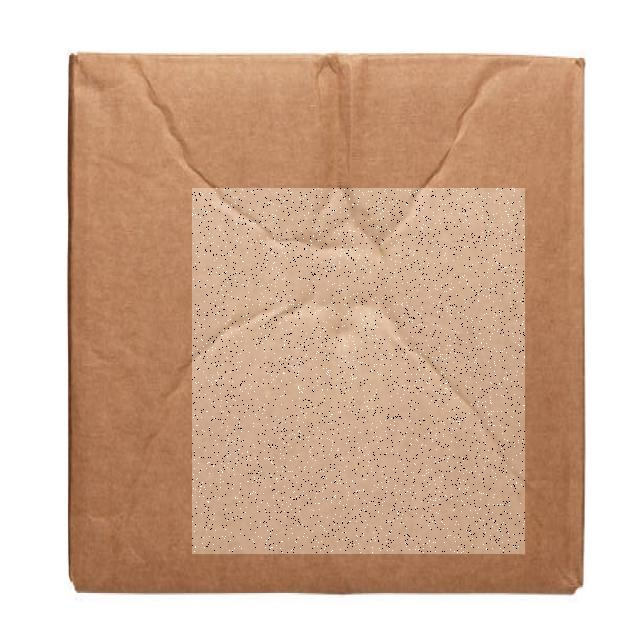squeeze: (193, 189, 525, 553)
